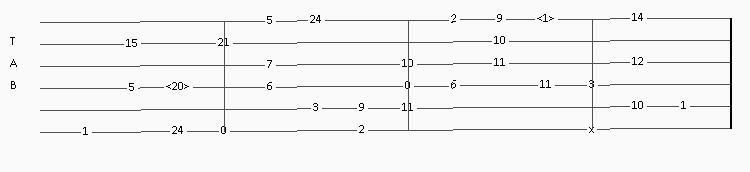0: (221, 124, 231, 136), (405, 80, 415, 92)
1: (83, 124, 93, 136), (681, 102, 691, 114)
10: (402, 58, 418, 70), (494, 36, 510, 48), (632, 102, 648, 114)
11: (402, 102, 418, 114), (494, 58, 510, 70), (540, 80, 556, 92)
12: (632, 58, 648, 70)
14: (632, 14, 648, 26)
15: (126, 36, 142, 48)
2: (359, 124, 369, 136), (451, 14, 461, 26)
21: (218, 36, 234, 48)
24: (172, 124, 188, 136), (310, 14, 326, 26)
3: (313, 102, 323, 114), (589, 80, 599, 92)
5: (129, 80, 139, 92), (267, 14, 277, 26)
6: (267, 80, 277, 92), (451, 80, 461, 92)
7: (267, 58, 277, 70)
9: (359, 102, 369, 114), (497, 14, 507, 26)
harmonic: (166, 80, 194, 92), (537, 14, 559, 26)
x: (589, 125, 598, 135)
